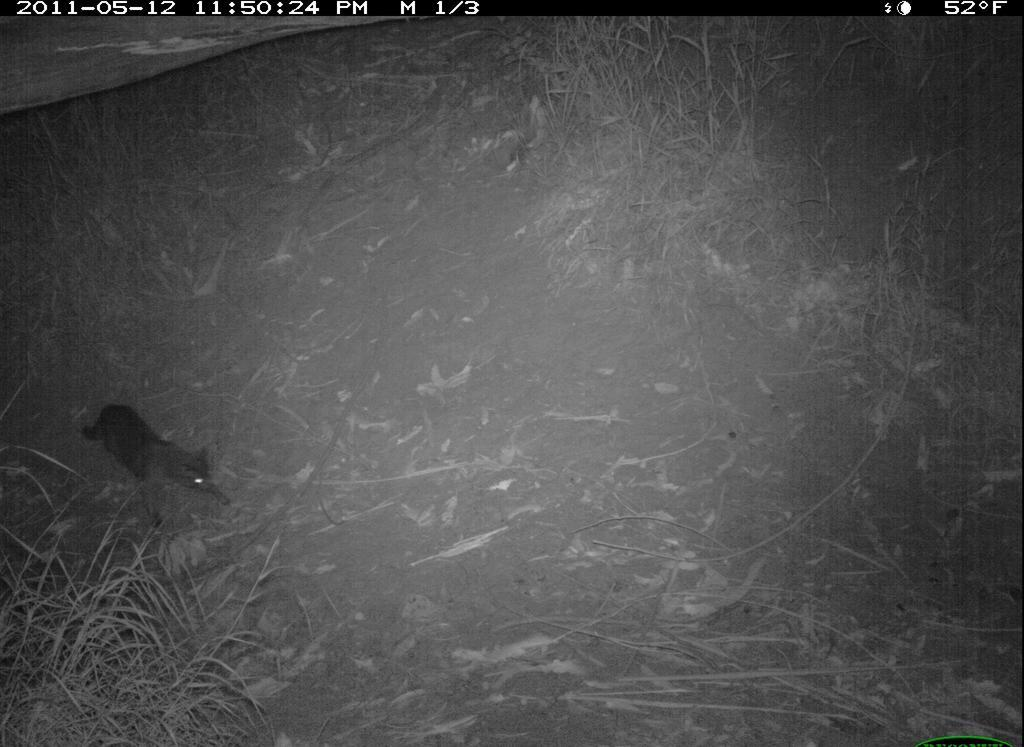cat: (79, 400, 237, 530)
